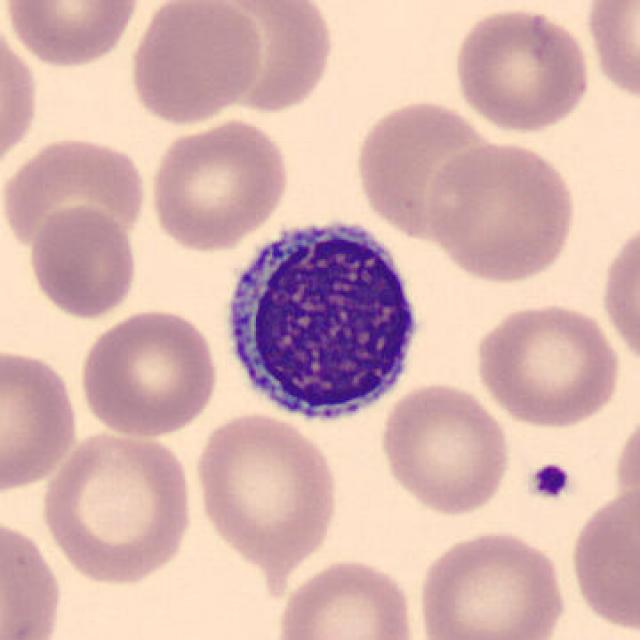Lymphocyte: (215, 204, 429, 433)
Platelets: (526, 460, 576, 504)
RBC: (38, 427, 198, 587), (190, 409, 342, 568), (423, 137, 580, 286), (352, 95, 501, 240), (471, 298, 624, 430), (146, 116, 292, 254), (75, 305, 222, 439), (448, 4, 596, 136), (2, 132, 151, 259), (377, 379, 514, 517), (412, 525, 570, 640), (125, 0, 266, 127), (186, 0, 339, 116), (25, 203, 140, 321), (270, 555, 423, 640), (0, 344, 82, 495), (567, 481, 640, 635), (2, 0, 144, 71), (0, 513, 66, 640), (597, 214, 640, 376), (0, 18, 41, 178), (581, 0, 638, 109)
